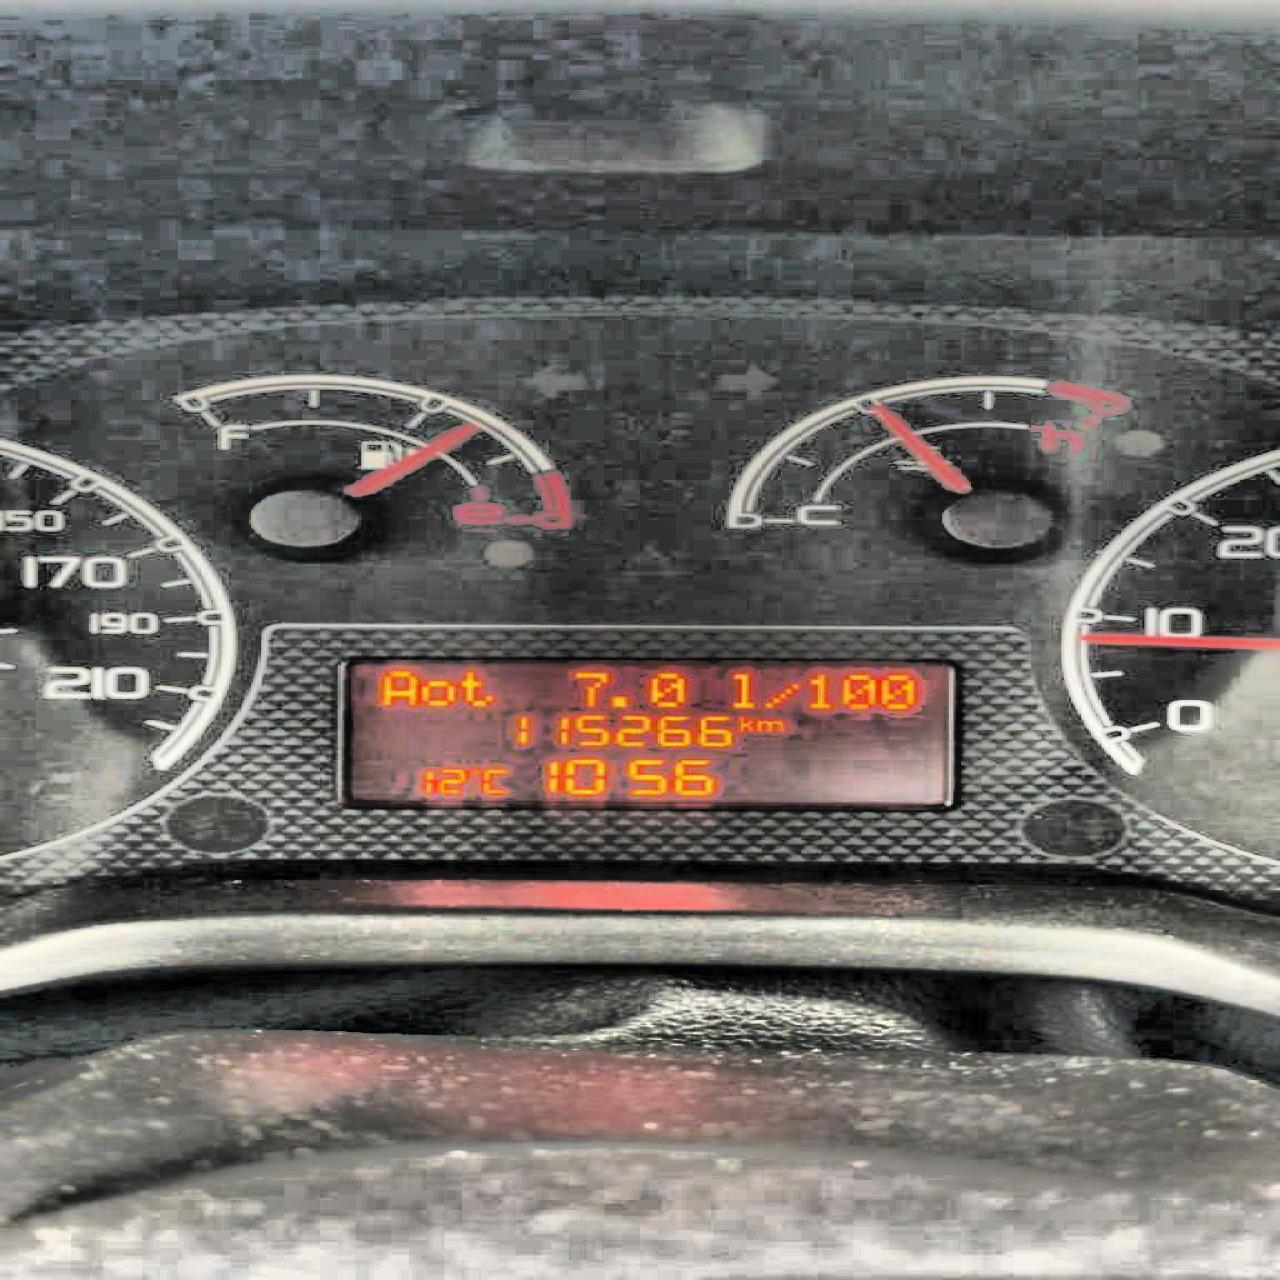-: (610, 694, 629, 708)
0: (563, 755, 608, 796), (642, 670, 689, 706), (876, 673, 915, 710), (840, 673, 876, 710)
1: (806, 670, 833, 710), (542, 757, 560, 794), (513, 714, 531, 745), (553, 715, 571, 745), (422, 768, 434, 794)
2: (613, 714, 648, 748), (436, 768, 464, 794)
5: (625, 757, 669, 797), (573, 713, 608, 747)
6: (672, 756, 716, 795), (653, 714, 692, 748), (695, 714, 734, 748)
7: (568, 669, 610, 709)
X: (457, 668, 496, 708), (377, 669, 415, 707), (417, 679, 456, 707), (760, 682, 802, 708), (727, 672, 756, 708), (481, 765, 509, 795), (754, 719, 784, 733), (734, 715, 754, 733)
odometer: (327, 648, 965, 811)
